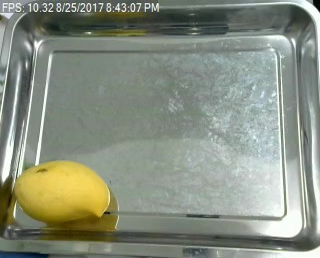Mango: (10, 158, 111, 223)
